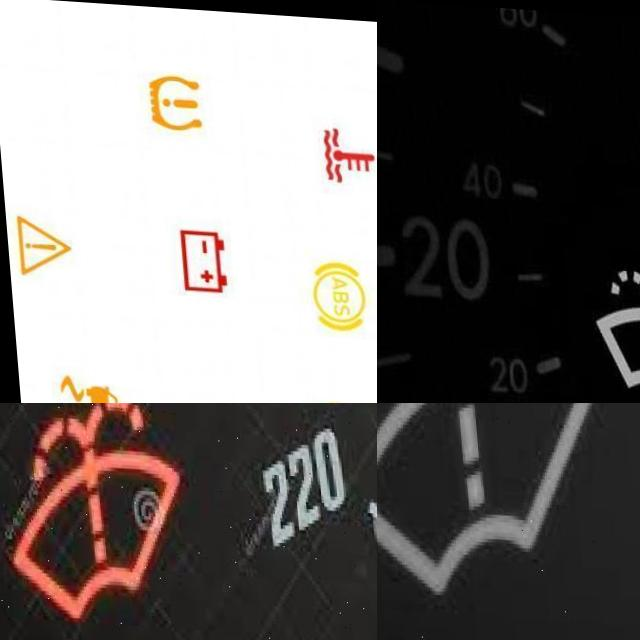Washer Fluid: (377, 403, 611, 603), (0, 403, 185, 620), (584, 258, 640, 403)
